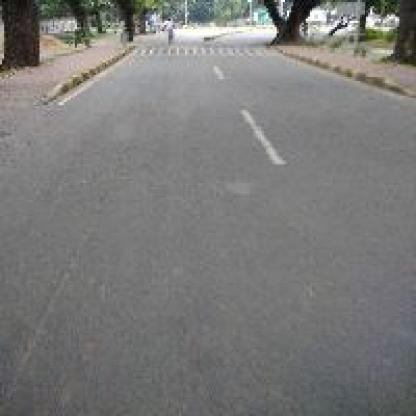Speed Bump: (131, 44, 268, 54)
